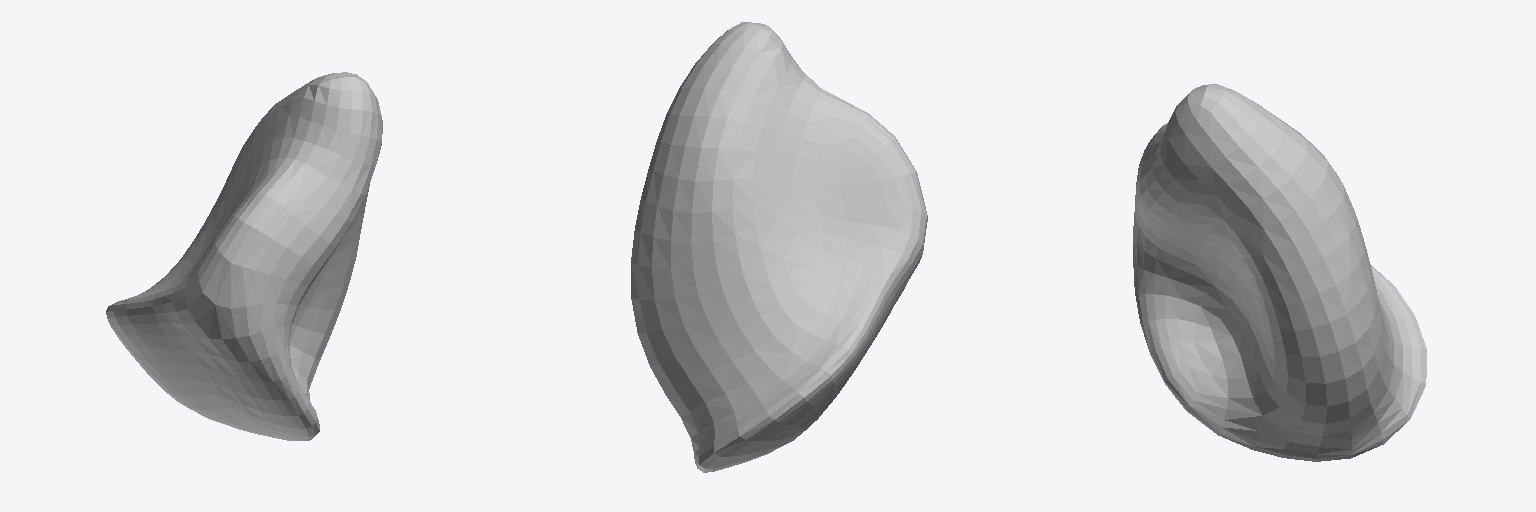
The model's file is Ear-left.obj.
The picture shows the model from 3 angles: view 1: azimuth 30°, elevation 25°; view 2: azimuth 150°, elevation 25°; view 3: azimuth 270°, elevation 25°; orthographic projection.
Visible parts, largest first — view 1: Group35671; view 2: Group35671; view 3: Group35671.
Boxes of the visible parts, x1=… form: Group35671: x1=106, y1=72, x2=382, y2=440; Group35671: x1=631, y1=22, x2=927, y2=472; Group35671: x1=1133, y1=84, x2=1426, y2=461.
Bounding box in the file's own units: 34.53 × 56.09 × 38.73.